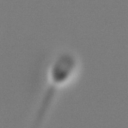normal: (28, 85, 58, 128)
